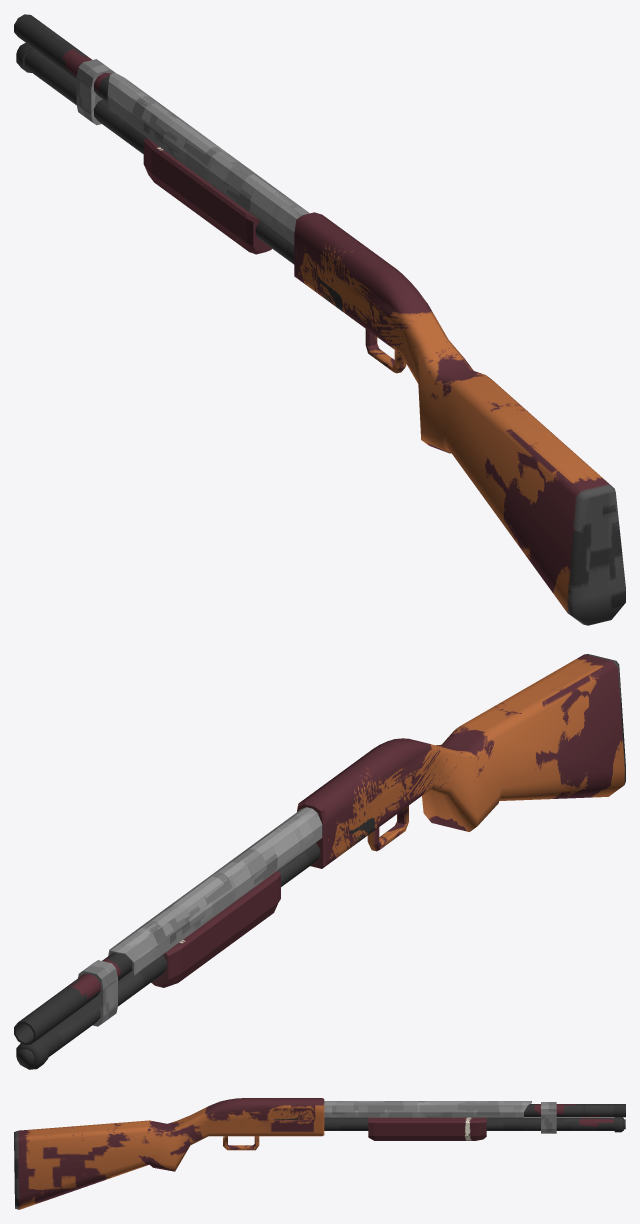
Rendered from mossenberg.glb.
The picture shows the model from 3 angles, top to bottom: view 1: azimuth 30°, elevation 25°; view 2: azimuth 150°, elevation 25°; view 3: azimuth 270°, elevation 25°; orthographic projection. The views are drawn at different scales.
Parts seen in each view (by area): view 1: Cuerpo, Guardia, Barril, Corredera; view 2: Cuerpo, Guardia, Barril, Corredera; view 3: Cuerpo, Guardia, Barril, Corredera.
Boxes of the visible parts, x1,y1,x2,y2 form: Cuerpo: (294, 212, 625, 625); Guardia: (76, 59, 309, 244); Barril: (14, 14, 294, 264); Corredera: (143, 137, 271, 254); Cuerpo: (297, 654, 625, 868); Guardia: (78, 807, 322, 1026); Barril: (14, 842, 320, 1069); Corredera: (151, 871, 280, 987); Cuerpo: (14, 1098, 324, 1209); Guardia: (324, 1101, 556, 1133); Barril: (324, 1104, 625, 1132); Corredera: (368, 1117, 486, 1140).
Bounding box in the file's own units: 0.2842 × 0.9493 × 4.94.
1 material, 1 textured.
